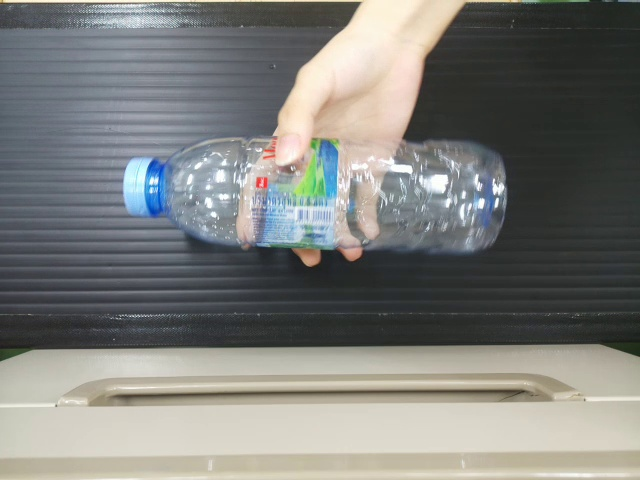bottle: (122, 128, 508, 256)
